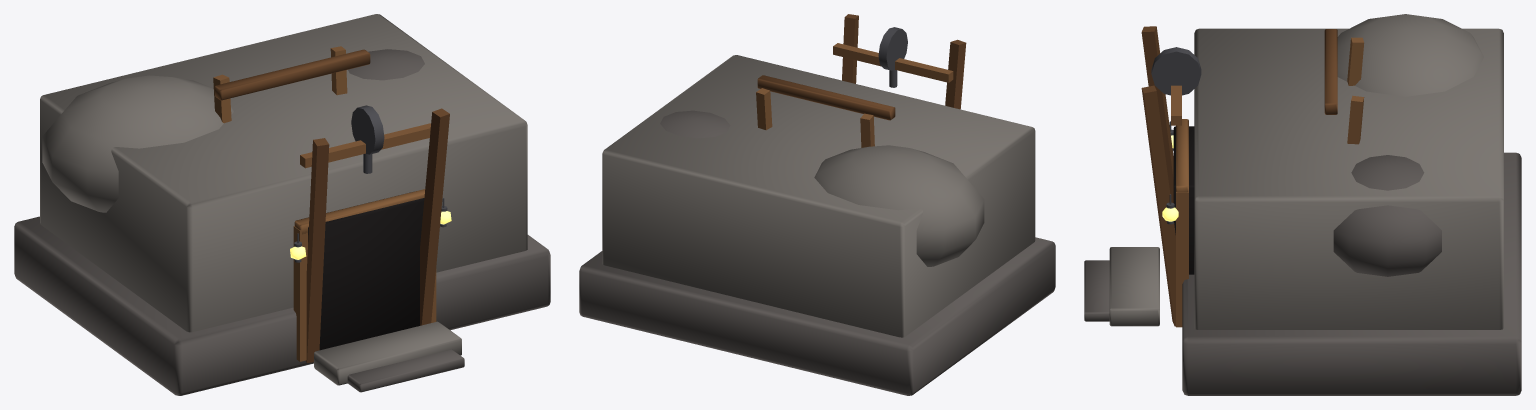
Rendered from v_mine_exterior.glb.
3 renders of one model, left to right at view 1: azimuth 30°, elevation 25°; view 2: azimuth 150°, elevation 25°; view 3: azimuth 270°, elevation 25°, orthographic. The views are drawn at different scales.
Visible parts, largest first — view 1: MineExterior; view 2: MineExterior; view 3: MineExterior.
Boxes of the visible parts, x1,y1,x2,y2 form: MineExterior: [14, 14, 550, 395]; MineExterior: [579, 14, 1055, 395]; MineExterior: [1084, 14, 1521, 395].
Bounding box in the file's own units: 7.97 × 4.72 × 7.35.
